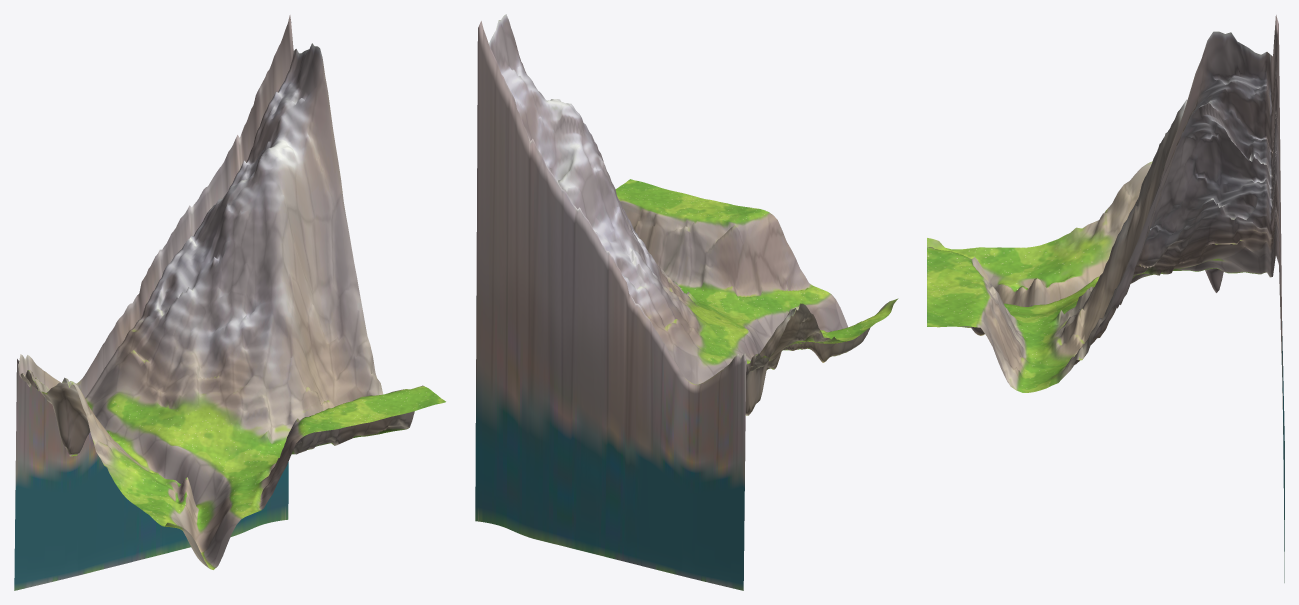
3 views of the same model, side by side, from view 1: azimuth 30°, elevation 25°; view 2: azimuth 150°, elevation 25°; view 3: azimuth 270°, elevation 25° (orthographic). The views are drawn at different scales.
Parts seen in each view (by area): view 1: t064_192; view 2: t064_192; view 3: t064_192.
Part boxes in pixels (x1,y1,x2,y2): t064_192: (14,15,445,590); t064_192: (475,14,898,590); t064_192: (927,15,1284,582).
Bounding box in the file's own units: 64 × 115 × 64.
Materials: 1 (1 with a texture image).
